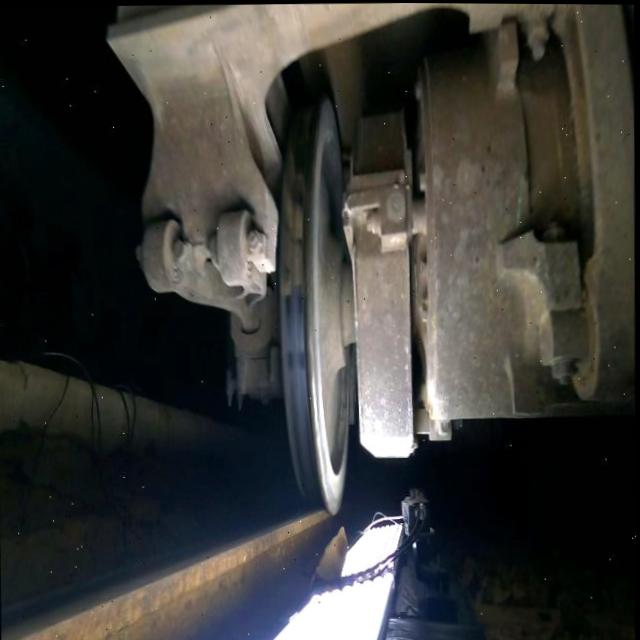Cracks-Scratches: (309, 343, 330, 498)
Discoloration: (290, 375, 322, 497), (287, 344, 307, 368), (287, 292, 305, 314)
Shelling: (282, 184, 306, 293), (286, 140, 307, 197)
Wheel: (280, 95, 353, 513)
